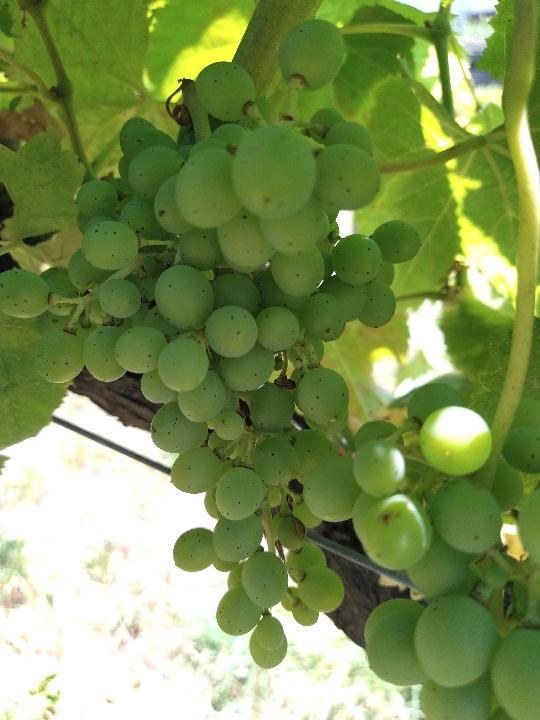grape: (2, 19, 423, 673)
